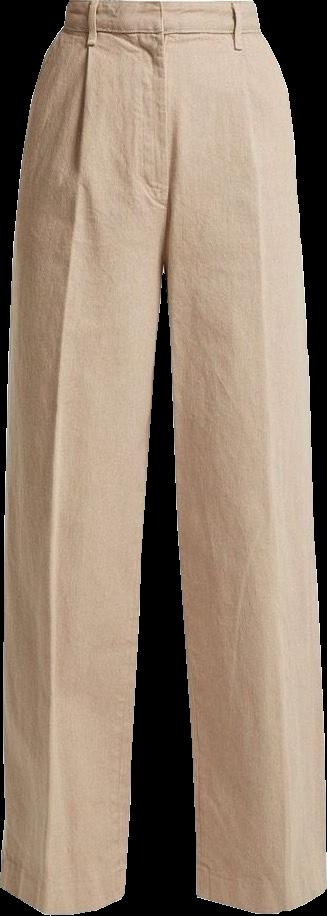Hemline: (0, 876, 129, 915), (192, 879, 326, 915)
Pantleg: (0, 0, 171, 913), (161, 0, 326, 913)
Waistline: (58, 23, 265, 42), (66, 0, 257, 11)
